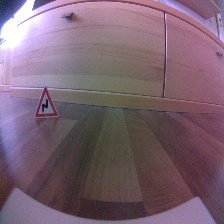vorsicht: (34, 85, 60, 119)
